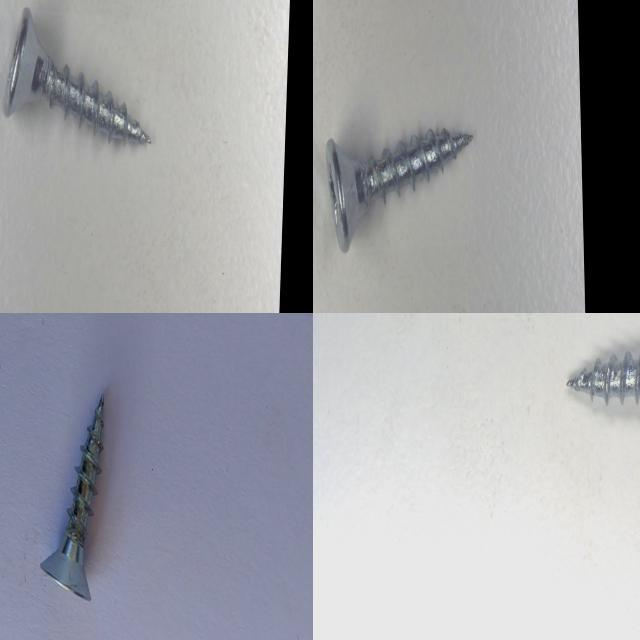Screw: (3, 6, 151, 143), (325, 128, 473, 251), (40, 393, 104, 601), (562, 313, 640, 433)
